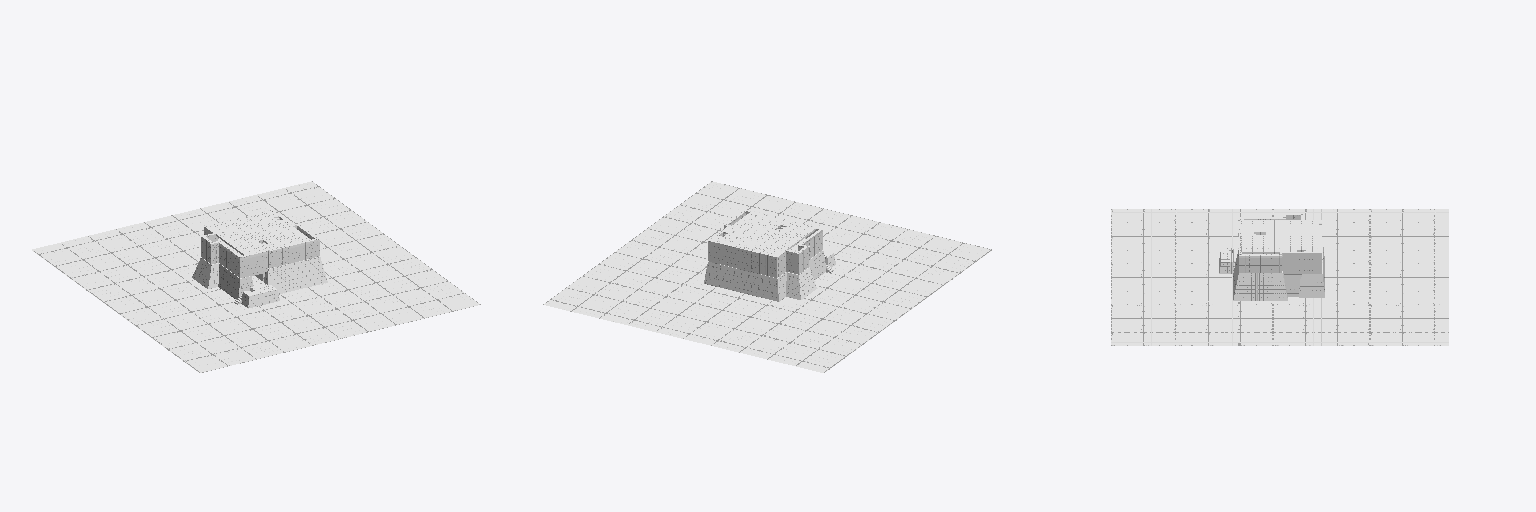
3 views of the same model, side by side, from view 1: azimuth 30°, elevation 25°; view 2: azimuth 150°, elevation 25°; view 3: azimuth 270°, elevation 25° (orthographic).
Visible parts, largest first — view 1: 壁2_2; view 2: 壁2_2; view 3: 壁2_2.
Part boxes in pixels (bbox=[...]): 壁2_2: bbox=[32, 181, 480, 372]; 壁2_2: bbox=[543, 181, 991, 372]; 壁2_2: bbox=[1111, 209, 1448, 345].
Bounding box in the file's own units: 80.27 × 11.72 × 83.48.
1 materials, 1 textured.